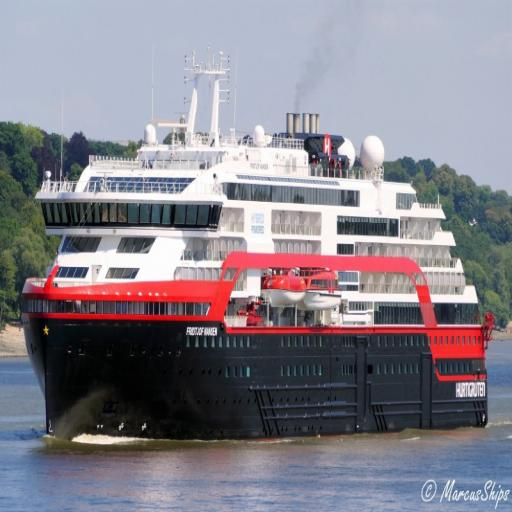cruises: (17, 42, 494, 455)
